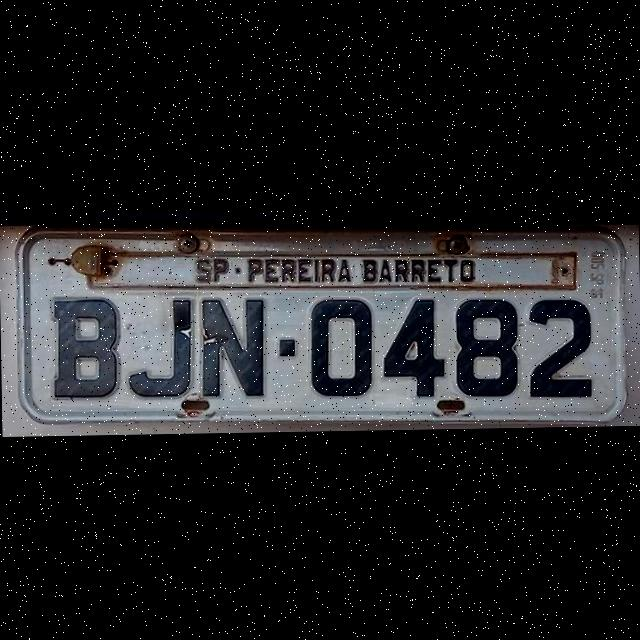Caractere: (524, 294, 596, 402), (51, 294, 122, 401), (126, 296, 196, 400), (453, 295, 522, 399), (308, 294, 376, 399), (376, 294, 444, 399), (198, 295, 266, 400)
Placa: (12, 213, 630, 432)
